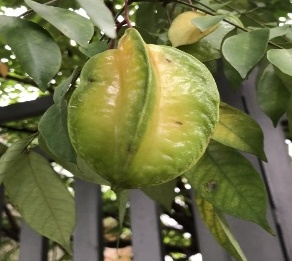Khe: (63, 25, 223, 194)
